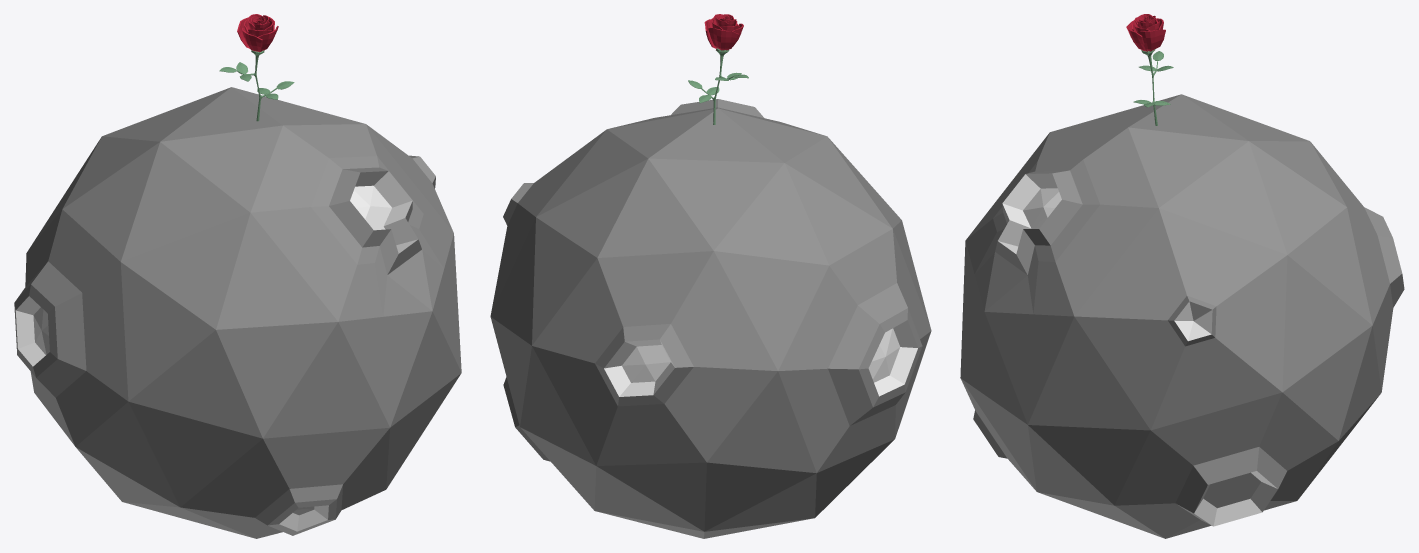
The model's file is rose.glb.
3 renders of one model, left to right at view 1: azimuth 30°, elevation 25°; view 2: azimuth 150°, elevation 25°; view 3: azimuth 270°, elevation 25°, orthographic. The views are drawn at different scales.
Visible parts, largest first — view 1: moon, Rose; view 2: moon, Rose; view 3: moon, Rose.
Boxes of the visible parts, x1,y1,x2,y2 form: moon: (14, 87, 461, 538); Rose: (219, 14, 294, 121); moon: (490, 99, 931, 538); Rose: (688, 14, 748, 124); moon: (960, 94, 1404, 538); Rose: (1126, 14, 1173, 125).
Bounding box in the file's own units: 10.28 × 12.3 × 9.98.
Materials: 3 (1 with a texture image).
